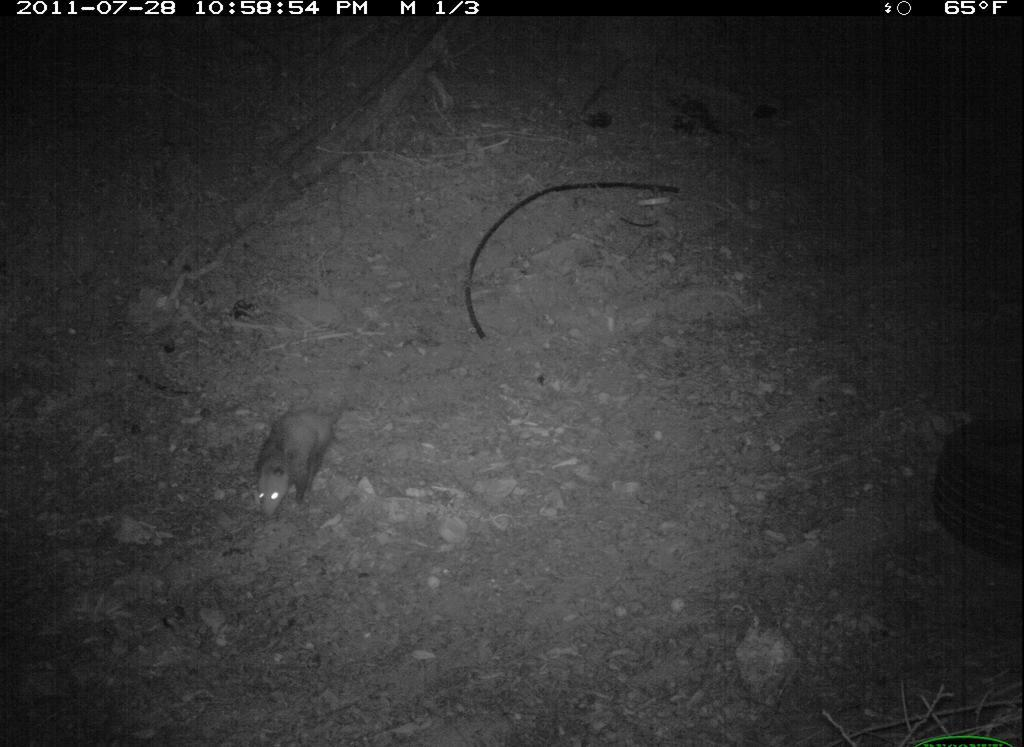opossum: (237, 369, 372, 538)
